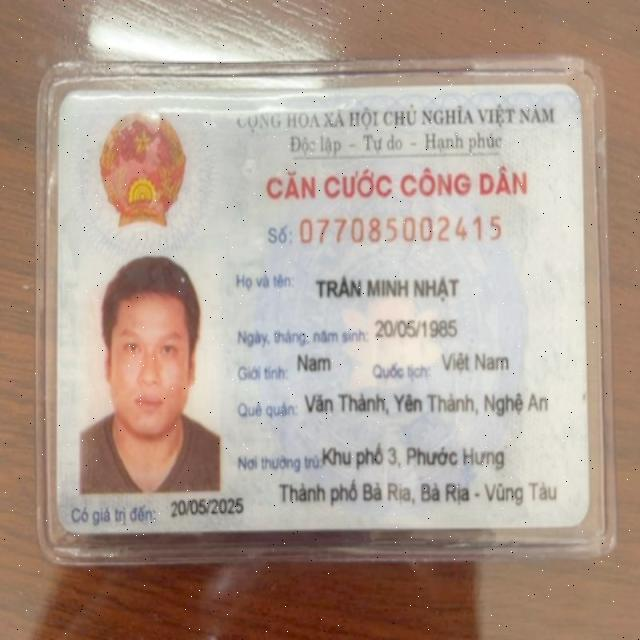current_place: (279, 476, 563, 507), (319, 441, 507, 473)
dob: (373, 315, 462, 342)
expire_date: (168, 495, 245, 523)
gender: (296, 350, 334, 377)
id: (298, 213, 503, 246)
name: (312, 271, 462, 306)
nationality: (438, 348, 512, 375)
origin_place: (300, 382, 551, 419)
